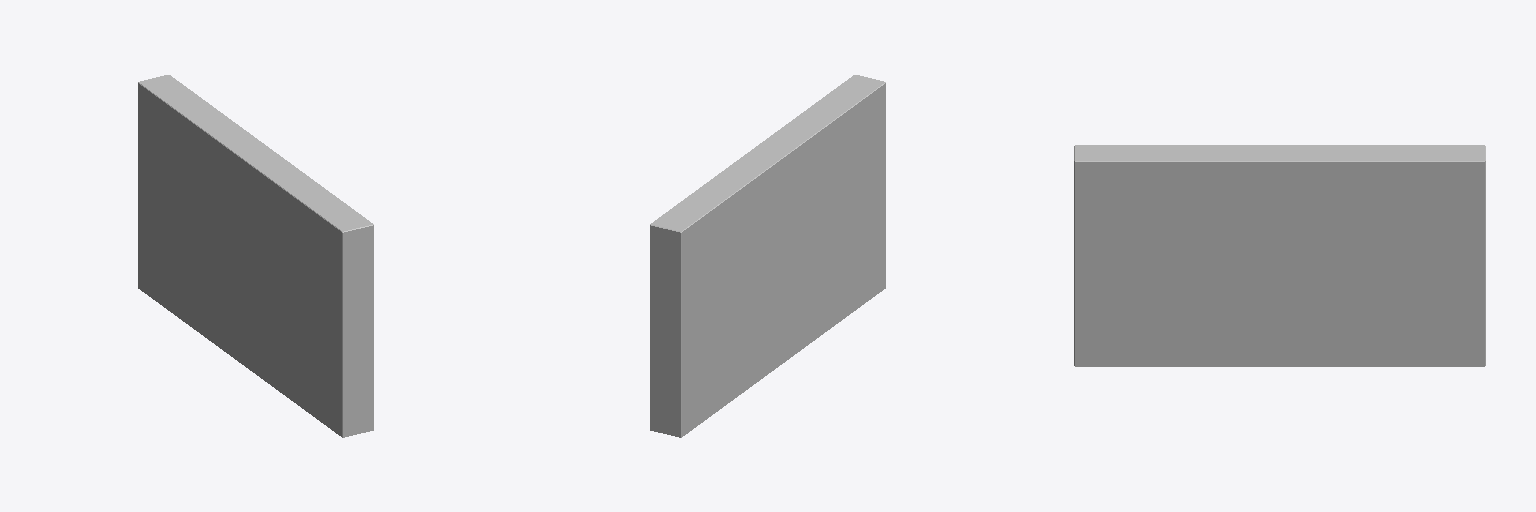
File: Wall_CountrySide_Hi.obj
The picture shows the model from 3 angles: view 1: azimuth 30°, elevation 25°; view 2: azimuth 150°, elevation 25°; view 3: azimuth 270°, elevation 25°; orthographic projection.
Visible parts, largest first — view 1: Wall_CountrySide; view 2: Wall_CountrySide; view 3: Wall_CountrySide.
Boxes of the visible parts, x1=… form: Wall_CountrySide: x1=138, y1=75, x2=373, y2=437; Wall_CountrySide: x1=650, y1=75, x2=885, y2=437; Wall_CountrySide: x1=1074, y1=145, x2=1485, y2=366.
Bounding box in the file's own units: 13.5 × 82.64 × 150.